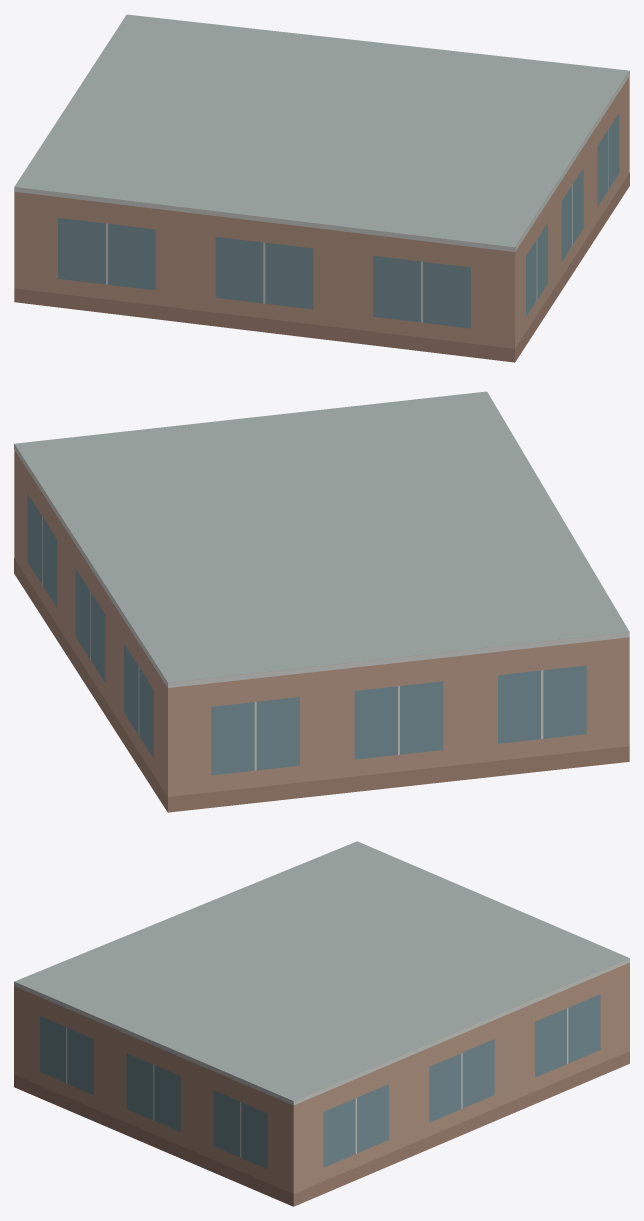
The model's file is survey-upis-32597988.glb.
The picture shows the model from 3 angles, top to bottom: view 1: azimuth 30°, elevation 25°; view 2: azimuth 150°, elevation 25°; view 3: azimuth 270°, elevation 25°; orthographic projection. The views are drawn at different scales.
Parts seen in each view (by area): view 1: survey-upis-32597988.tmp; view 2: survey-upis-32597988.tmp; view 3: survey-upis-32597988.tmp.
Part boxes in pixels (bbox=[...]): survey-upis-32597988.tmp: bbox=[14, 14, 629, 362]; survey-upis-32597988.tmp: bbox=[14, 391, 629, 812]; survey-upis-32597988.tmp: bbox=[14, 841, 629, 1206].
Size of the model in its own units: 16.12 by 3.05 by 16.14.
